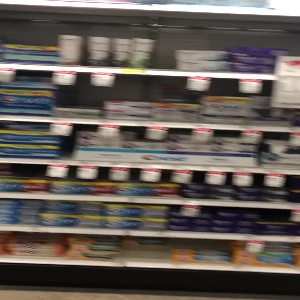void: (120, 236, 169, 263), (150, 19, 175, 70)
